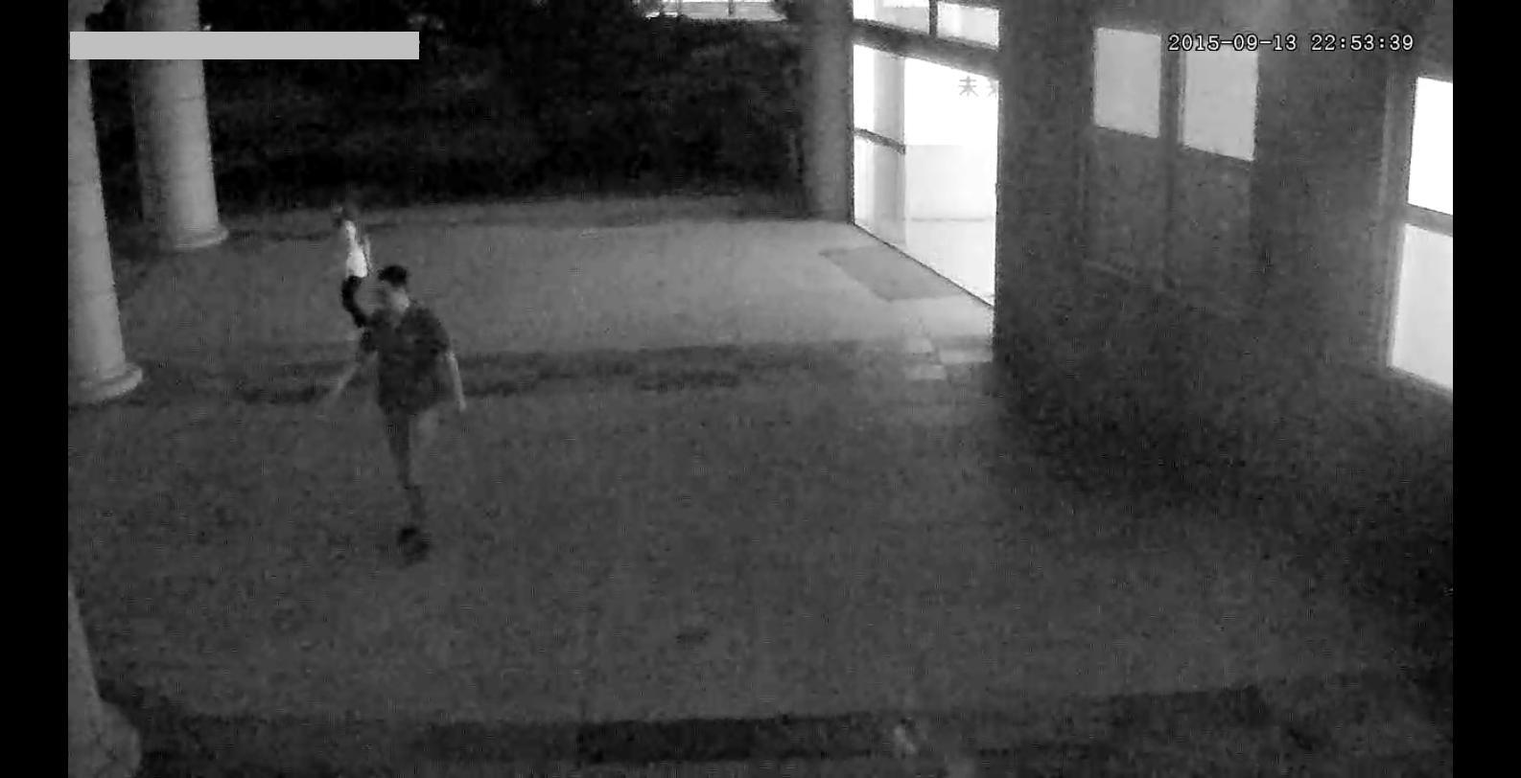person: (328, 263, 479, 579), (314, 186, 383, 332)
